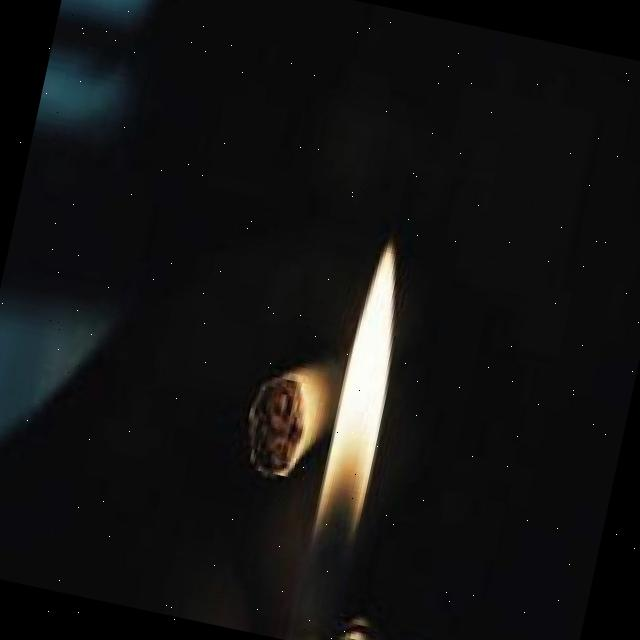fire: (287, 241, 416, 640)
